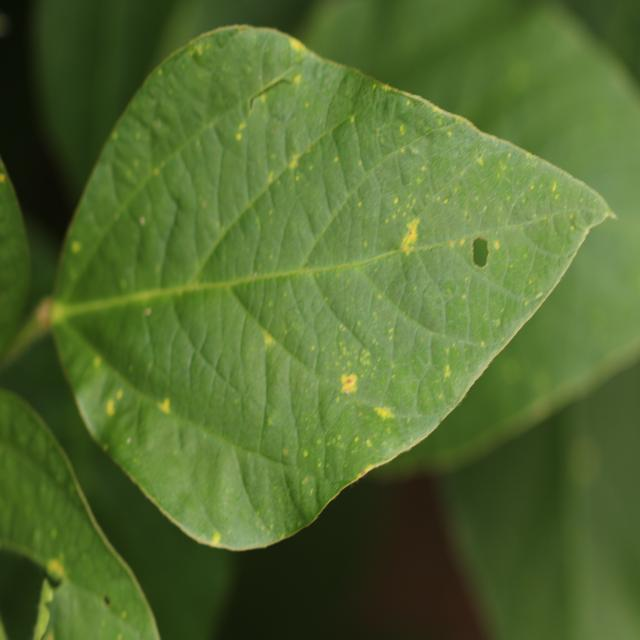Soybean: (43, 25, 618, 556)
downey_mildew: (309, 188, 461, 427), (373, 157, 478, 295), (372, 197, 455, 363), (331, 315, 413, 431), (490, 162, 575, 237), (96, 375, 159, 456), (378, 84, 468, 140), (341, 379, 402, 453), (461, 260, 507, 337), (492, 235, 537, 297), (333, 327, 374, 380), (505, 56, 535, 91), (101, 383, 128, 421), (399, 217, 421, 250), (499, 356, 524, 385), (189, 43, 214, 72), (14, 422, 36, 453), (531, 369, 553, 399), (46, 558, 65, 584), (341, 372, 358, 394), (374, 405, 393, 420), (289, 36, 305, 53), (159, 397, 170, 414), (430, 104, 444, 116), (106, 399, 115, 416), (360, 349, 370, 363), (211, 531, 221, 545), (290, 157, 299, 172), (264, 333, 273, 347), (71, 241, 81, 253), (190, 47, 199, 59), (364, 464, 373, 474), (293, 74, 301, 85), (195, 45, 203, 56), (93, 356, 101, 367), (116, 389, 123, 400), (50, 528, 57, 539), (551, 181, 557, 193), (238, 122, 246, 131), (477, 156, 484, 166), (362, 357, 369, 366), (493, 240, 500, 249), (365, 439, 372, 448), (399, 124, 405, 134), (268, 172, 274, 182), (302, 476, 309, 484), (535, 292, 543, 299), (360, 469, 367, 477), (235, 132, 241, 141), (267, 416, 273, 425), (145, 307, 151, 316), (460, 237, 466, 245), (0, 174, 6, 182), (121, 611, 127, 619), (103, 444, 109, 452), (140, 216, 145, 225), (447, 130, 453, 137), (383, 84, 389, 91), (347, 378, 353, 385), (117, 633, 123, 640), (350, 115, 355, 123), (154, 168, 159, 176), (388, 328, 394, 334), (303, 450, 308, 457), (354, 436, 359, 443), (317, 461, 322, 468), (333, 156, 338, 163), (421, 165, 426, 172), (310, 344, 315, 351), (202, 200, 207, 207), (569, 213, 574, 220), (408, 229, 413, 236), (126, 437, 131, 444), (253, 271, 258, 278), (344, 389, 349, 396), (529, 184, 534, 190), (570, 225, 575, 231), (388, 335, 393, 341), (406, 100, 411, 106), (283, 449, 288, 455), (394, 197, 398, 204), (336, 396, 340, 403), (310, 488, 314, 495), (555, 194, 559, 200), (444, 198, 448, 204), (483, 206, 487, 212), (358, 201, 362, 207), (528, 279, 532, 285), (372, 84, 376, 90)
